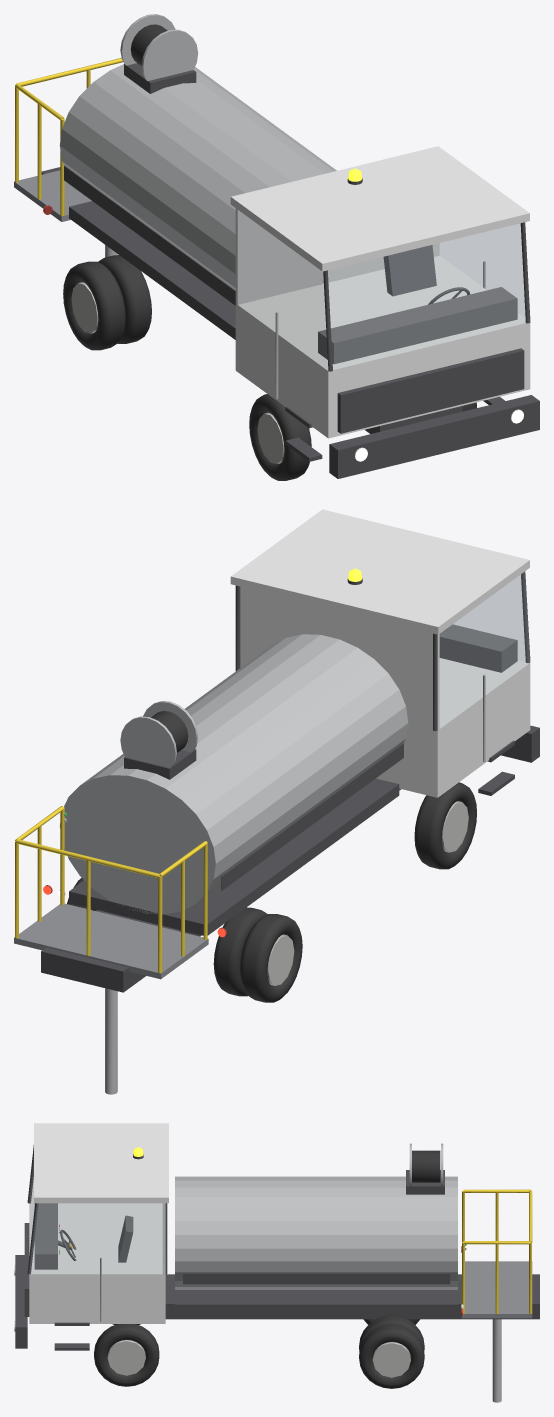
Rendered from LavatoryTruck.glb.
3 views of the same model, one above another, from view 1: azimuth 30°, elevation 25°; view 2: azimuth 150°, elevation 25°; view 3: azimuth 270°, elevation 25° (orthographic). The views are drawn at different scales.
Visible parts, largest first — view 1: Body, Wheel_RR, ServicePlatform, HoseReel, Wheel_FR; view 2: Body, ServicePlatform, Wheel_RR, Wheel_FR, HoseReel; view 3: Body, ServicePlatform, Wheel_RL, Wheel_FL, HoseReel.
Part boxes in pixels (x1=…): Body: x1=41, y1=63, x2=539, y2=478; Wheel_RR: x1=63, y1=255, x2=151, y2=350; ServicePlatform: x1=14, y1=58, x2=123, y2=257; HoseReel: x1=120, y1=14, x2=198, y2=80; Wheel_FR: x1=249, y1=394, x2=311, y2=480; Body: x1=41, y1=509, x2=539, y2=992; ServicePlatform: x1=14, y1=806, x2=208, y2=1094; Wheel_RR: x1=213, y1=907, x2=302, y2=1002; Wheel_FR: x1=414, y1=782, x2=476, y2=869; HoseReel: x1=120, y1=701, x2=198, y2=767; Body: x1=14, y1=1123, x2=539, y2=1350; ServicePlatform: x1=462, y1=1189, x2=532, y2=1402; Wheel_RL: x1=359, y1=1315, x2=424, y2=1388; Wheel_FL: x1=94, y1=1324, x2=159, y2=1386; HoseReel: x1=409, y1=1143, x2=443, y2=1186.
Size of what is drawn, in the model's own units: 2.29 by 3.61 by 6.75.
